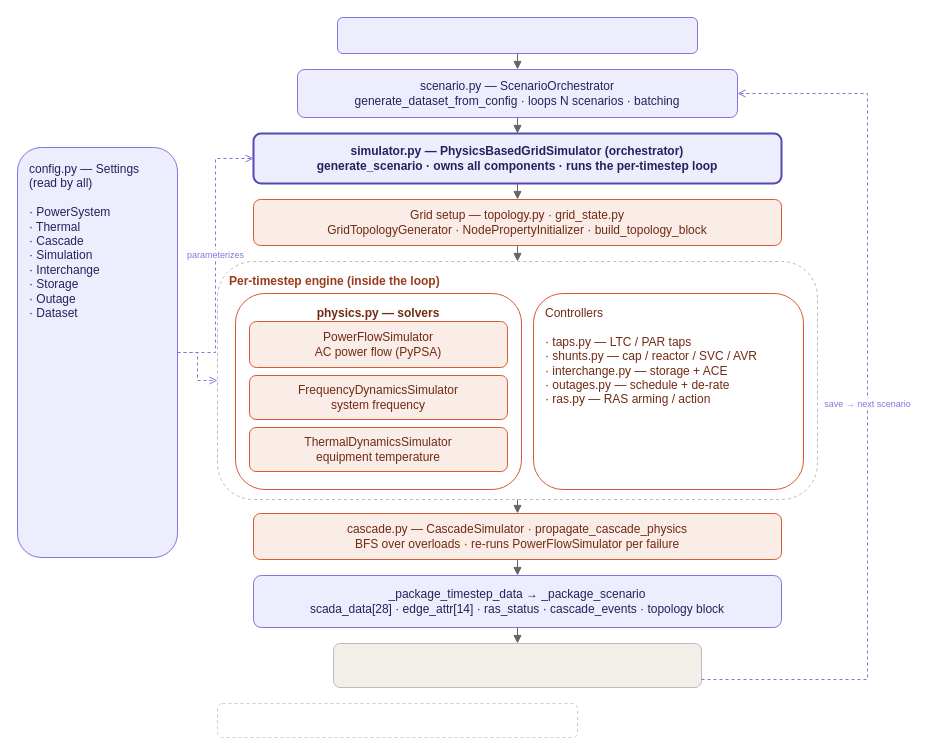
Some shapes in this 928 by 755 pixel diagram are drawn without their labels. The centre of each missing label's shape, as x and y in pixels:
environmental.py · robotic.py — orphaned (removed from pipeline): the point at 397,720
multimodal_data_generator.py · CLI: the point at 517,35
utils.py — save_scenarios scenarios_batch_*.pkl: the point at 517,665
